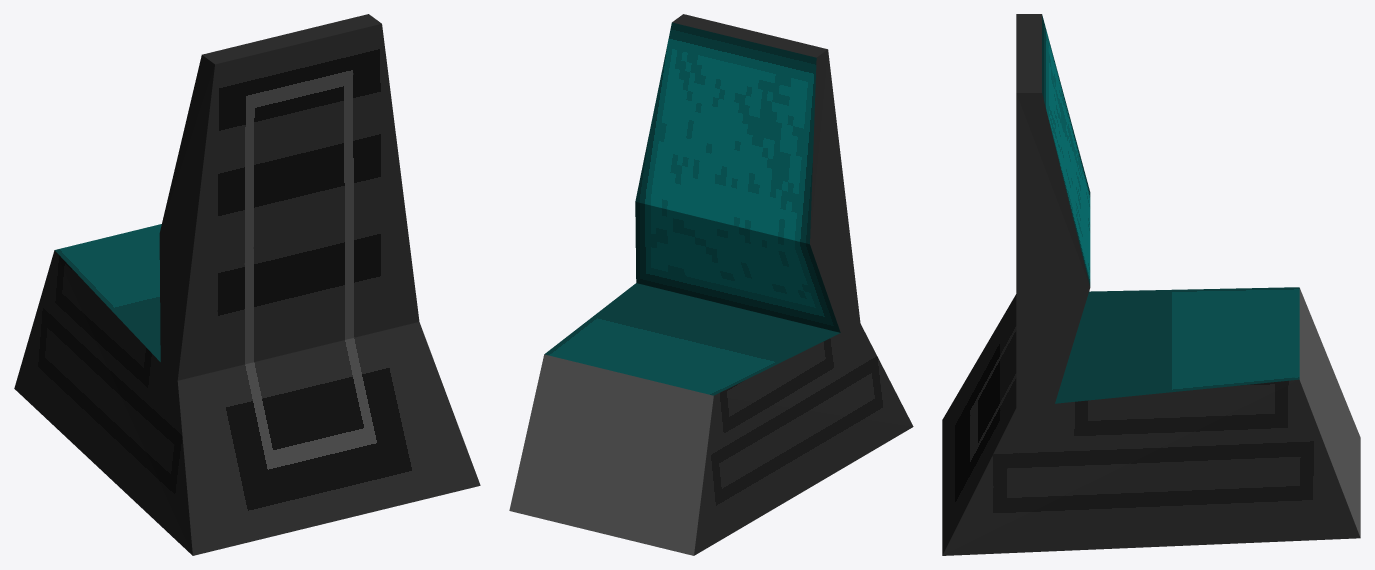
3 views of the same model, side by side, from view 1: azimuth 30°, elevation 25°; view 2: azimuth 150°, elevation 25°; view 3: azimuth 270°, elevation 25° (orthographic). The views are drawn at different scales.
Parts seen in each view (by area): view 1: ss3d_14_chair; view 2: ss3d_14_chair; view 3: ss3d_14_chair.
Boxes of the visible parts, x1,y1,x2,y2 form: ss3d_14_chair: (14, 14, 480, 555); ss3d_14_chair: (509, 14, 913, 555); ss3d_14_chair: (942, 14, 1360, 555).
Size of the model in its own units: 0.3516 by 0.5238 by 0.457.
Materials: 1 (1 with a texture image).
